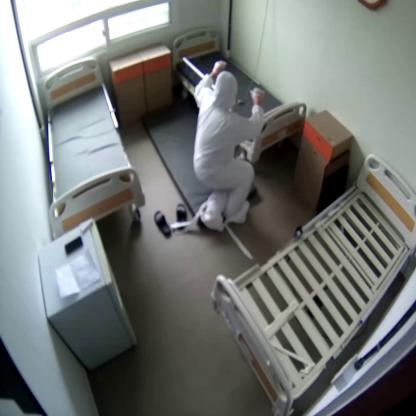Person: (192, 60, 264, 233)
